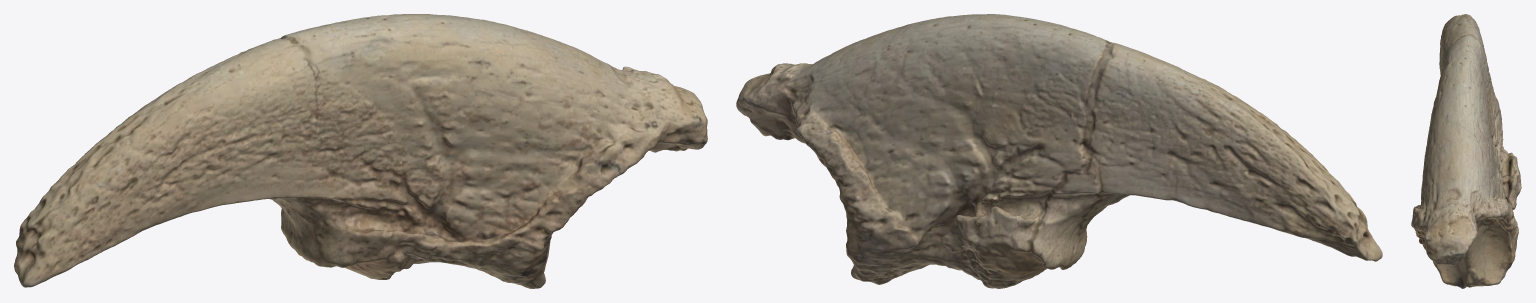
The picture shows the model from 3 angles, left to right: view 1: azimuth 30°, elevation 25°; view 2: azimuth 150°, elevation 25°; view 3: azimuth 270°, elevation 25°; orthographic projection. The views are drawn at different scales.
Parts seen in each view (by area): view 1: orientacao; view 2: orientacao; view 3: orientacao.
Boxes of the visible parts, x1,y1,x2,y2 form: orientacao: [14, 14, 707, 288]; orientacao: [736, 14, 1382, 288]; orientacao: [1411, 14, 1521, 288].
Size of the model in its own units: 4915 by 2102 by 1141.
Materials: 1 (1 with a texture image).
